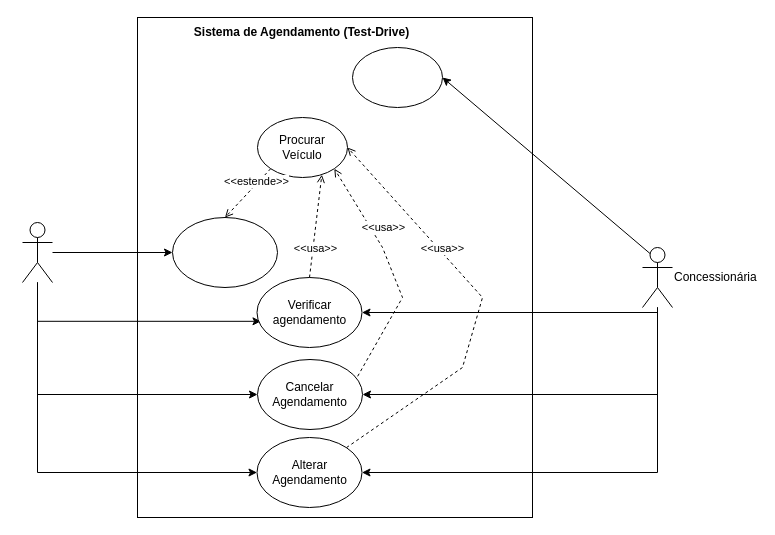
Some shapes in this 775 by 535 pixel diagram are drawn without their labels. The centre of each missing label's shape, as x and y in pixels:
CRUD Veículo: the point at 397,77
Gerar Registro de Agendamento: the point at 225,252
Usuário: the point at 37,252
